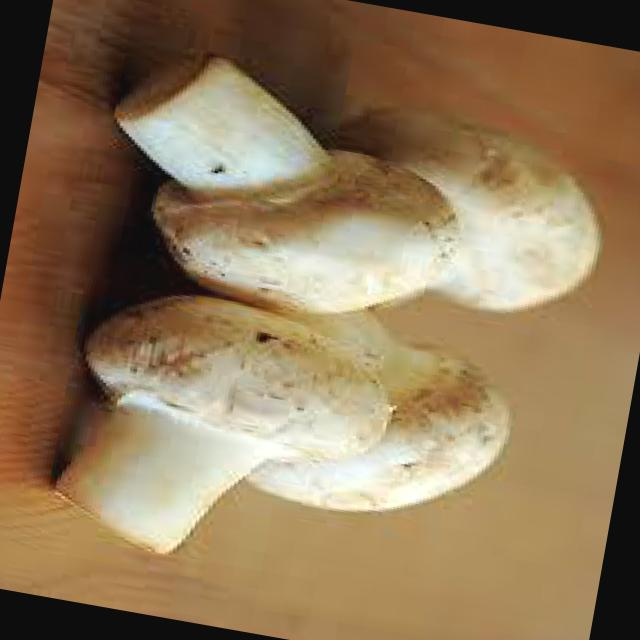Agaricus bisporus: (24, 276, 403, 586), (87, 48, 469, 328), (229, 294, 514, 546), (350, 104, 608, 348)
